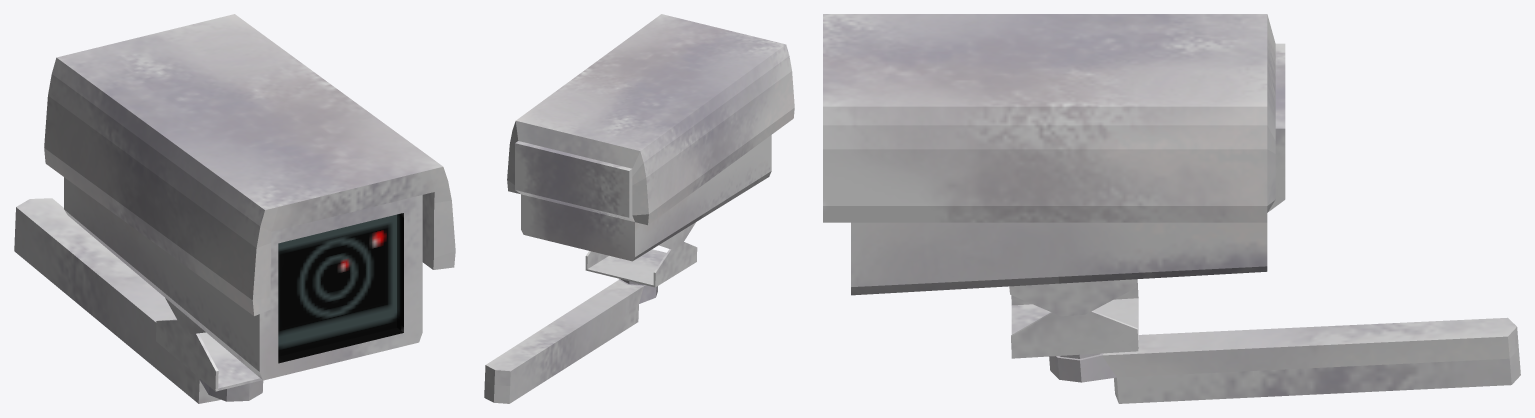
File: Camera.fbx
The picture shows the model from 3 angles, left to right: view 1: azimuth 30°, elevation 25°; view 2: azimuth 150°, elevation 25°; view 3: azimuth 270°, elevation 25°; orthographic projection. The views are drawn at different scales.
Parts seen in each view (by area): view 1: Camera; view 2: Camera; view 3: Camera.
Boxes of the visible parts, x1=… form: Camera: x1=14, y1=14, x2=455, y2=403; Camera: x1=484, y1=14, x2=794, y2=403; Camera: x1=823, y1=14, x2=1520, y2=403.
Size of the model in its own units: 36.36 by 53.61 by 102.
